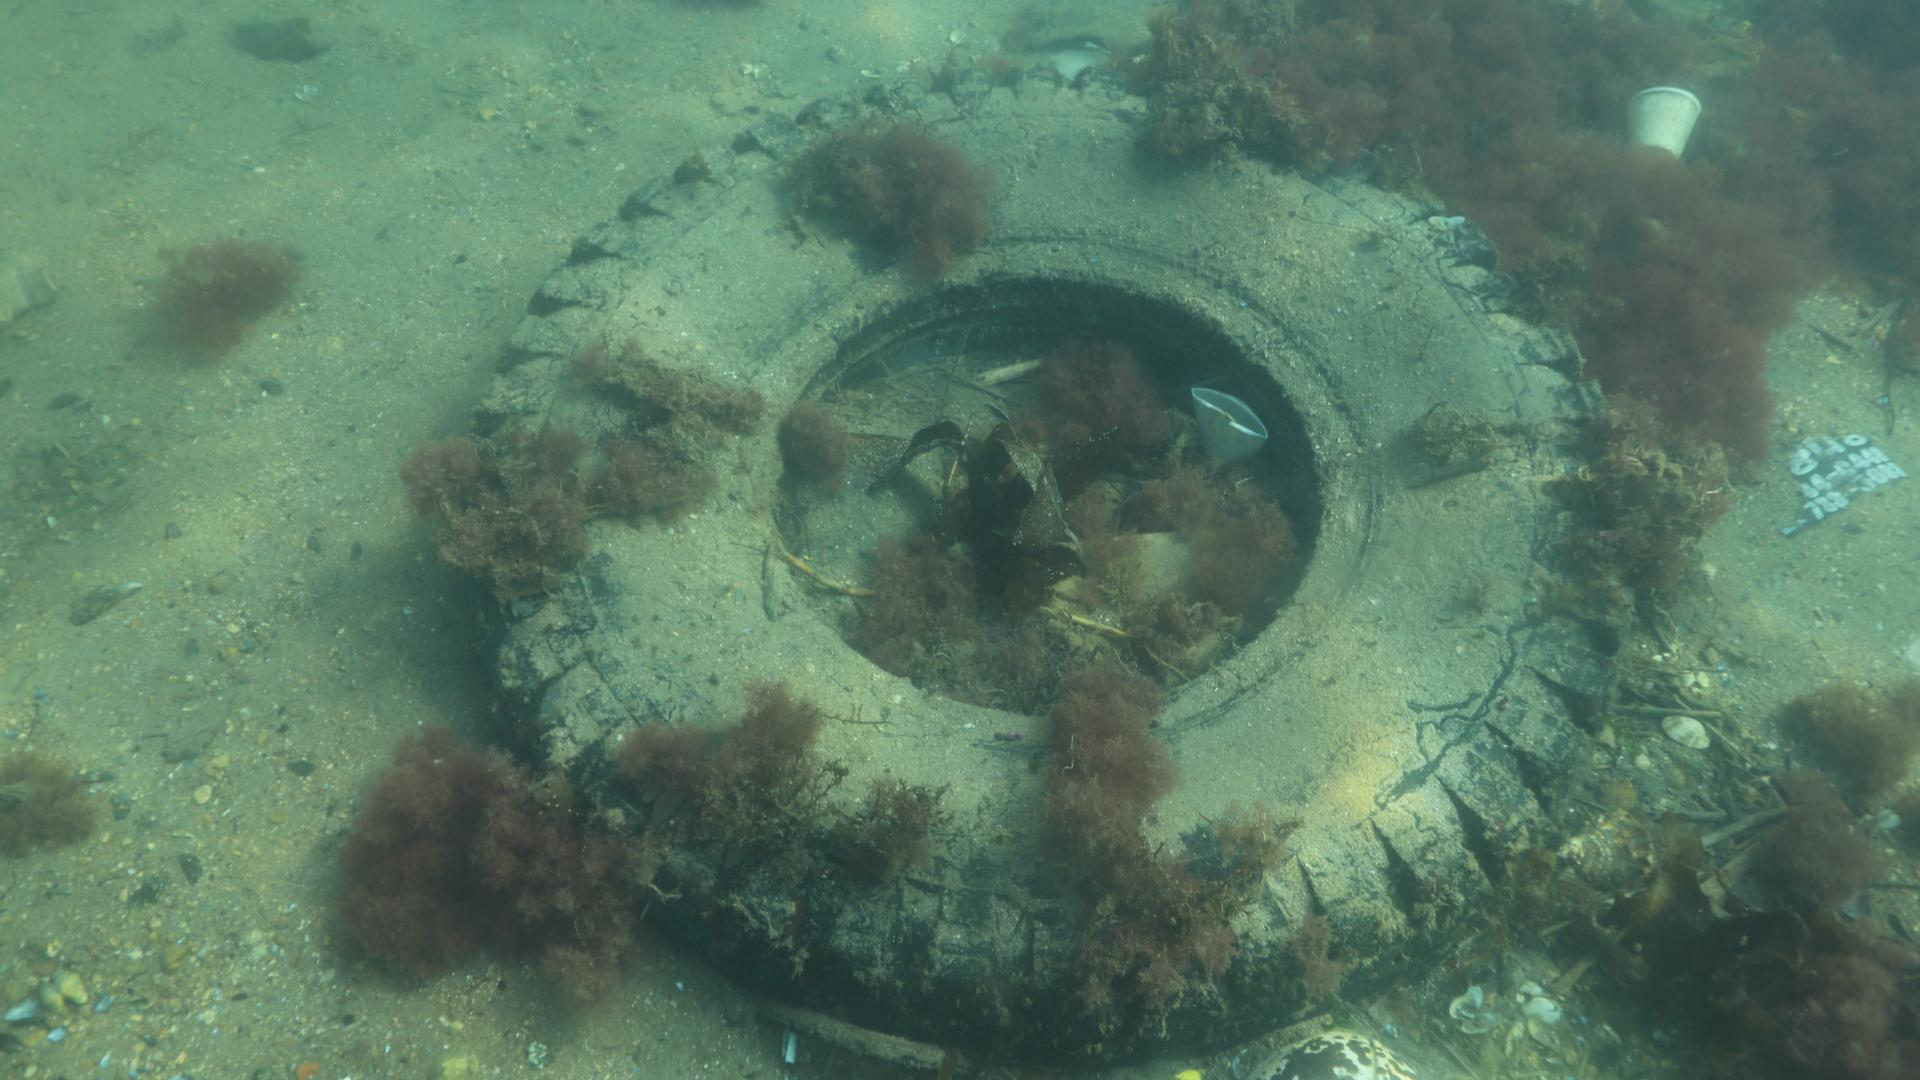tire: (465, 61, 1630, 1073)
